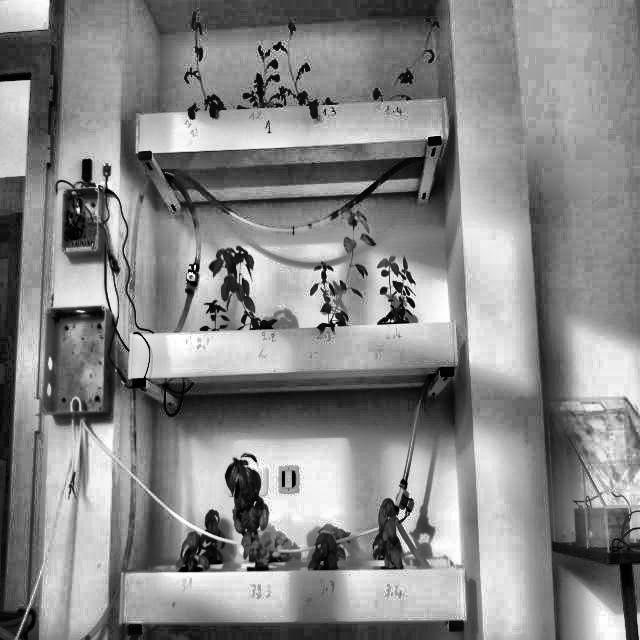plants: (317, 204, 378, 327), (366, 13, 440, 104), (208, 243, 277, 331), (226, 448, 272, 568), (180, 10, 228, 114), (280, 23, 338, 105), (235, 46, 280, 112), (308, 260, 351, 326), (378, 254, 416, 326), (371, 500, 405, 568), (308, 524, 352, 572), (199, 506, 226, 564), (175, 530, 213, 570), (196, 298, 232, 332)
